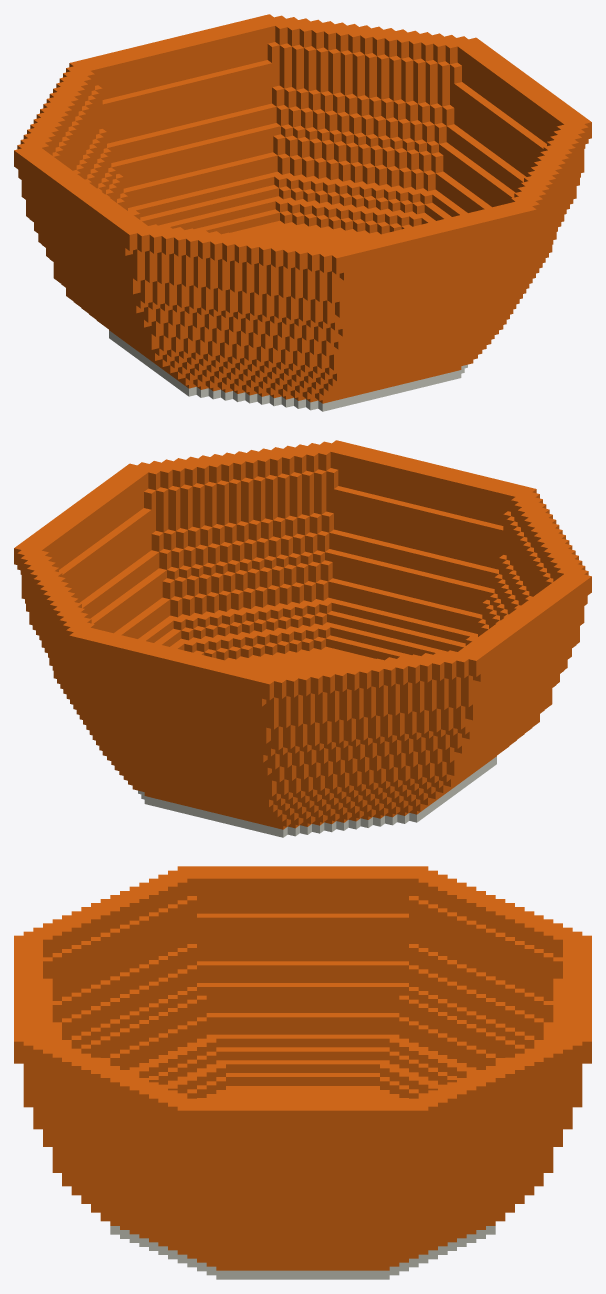
File: plastic_bowl_kids.glb
The picture shows the model from 3 angles, top to bottom: view 1: azimuth 30°, elevation 25°; view 2: azimuth 150°, elevation 25°; view 3: azimuth 270°, elevation 25°; orthographic projection. The views are drawn at different scales.
Parts seen in each view (by area): view 1: plastic_bowl_kids:compound; view 2: plastic_bowl_kids:compound; view 3: plastic_bowl_kids:compound.
Part boxes in pixels (<box>): plastic_bowl_kids:compound: <box>14,14,591,411</box>; plastic_bowl_kids:compound: <box>14,440,591,837</box>; plastic_bowl_kids:compound: <box>14,866,591,1279</box>.
Bounding box in the file's own units: 0.12 × 0.048 × 0.12.
